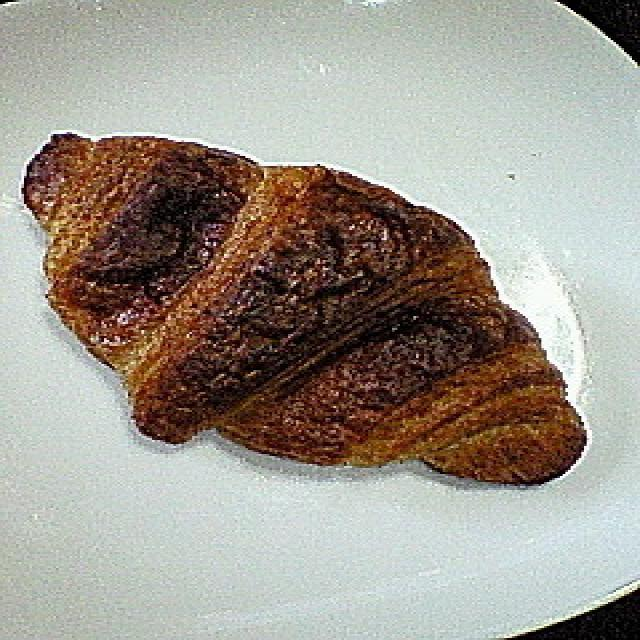Croissant: (31, 122, 584, 510)
